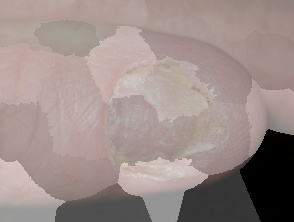Nail_psoriasis: (82, 41, 246, 190)
